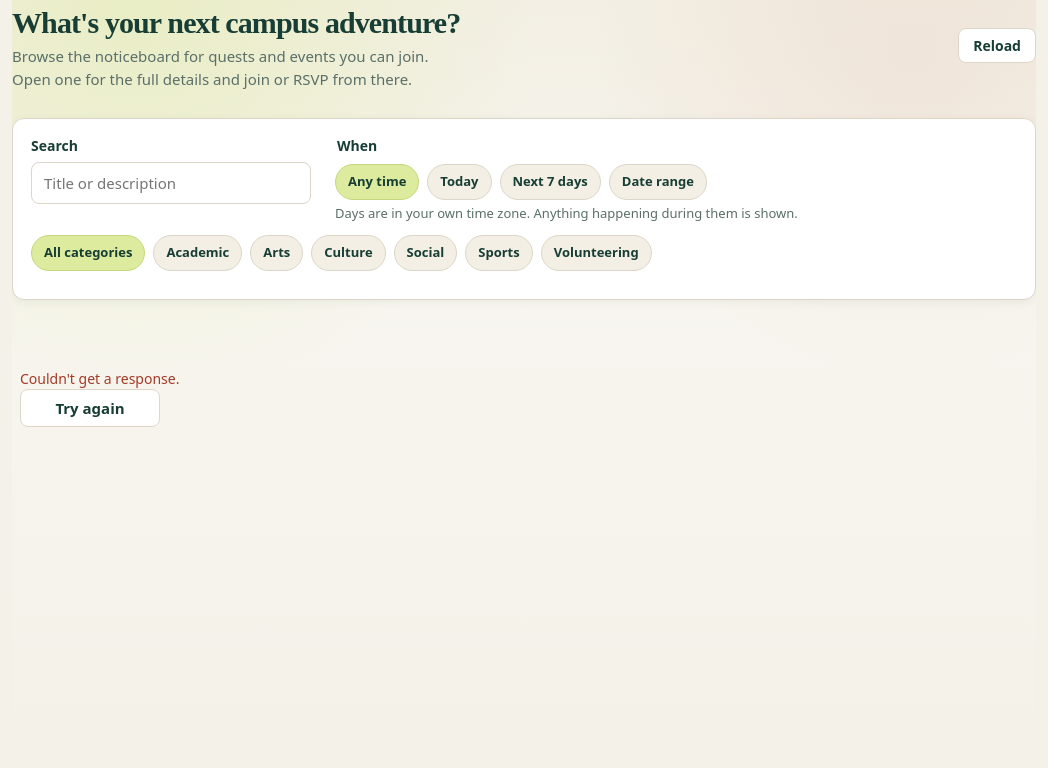
Discovering quests and events › shows a retryable load error
Expected: the text "Couldn't get a response." is shown, [20,368,179,388]
What coordinates should you click on to do the following:
click the button "Try again"
I would click on:
 (90, 408)
Its box is [20,388,160,426].
(page scrolled)
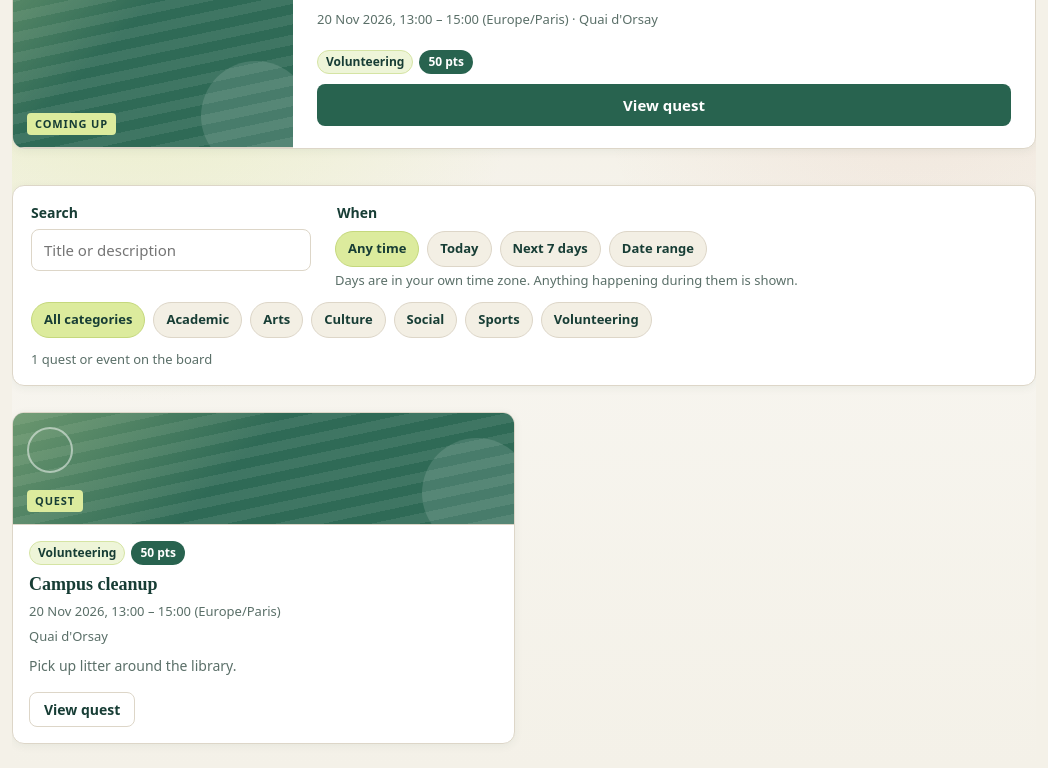
Result: the button with aria-label "View quest: Campus cleanup" is shown at [29,692,135,727]
